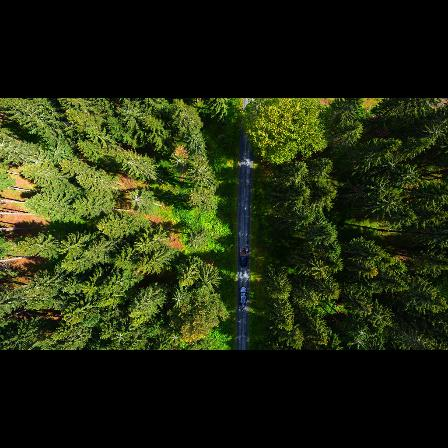Sick: (125, 187, 150, 212), (169, 287, 190, 313), (399, 165, 421, 187), (382, 156, 405, 175), (164, 329, 185, 346), (110, 329, 130, 346)
